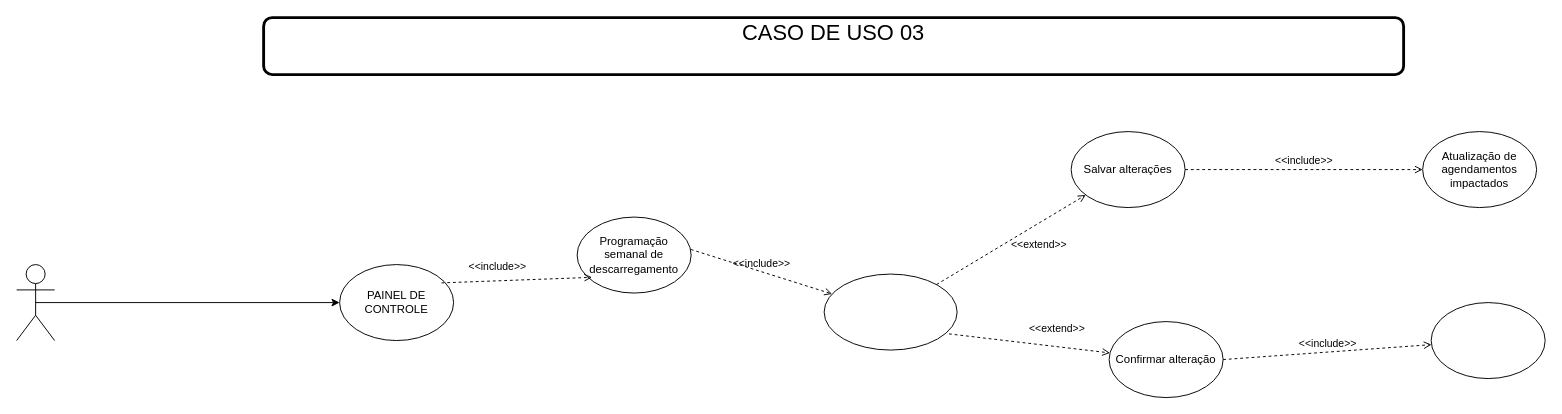
Image size: 1562x414. Some labels were removed from this diagram. Each missing label, with the centre of its shape:
ADM: (x=35, y=302)
EDITOR DE DADOS "fornecedor, horário, tipo e volume de carga": (x=890, y=311)
Notificação a motoristas afetados: (x=1487, y=340)
